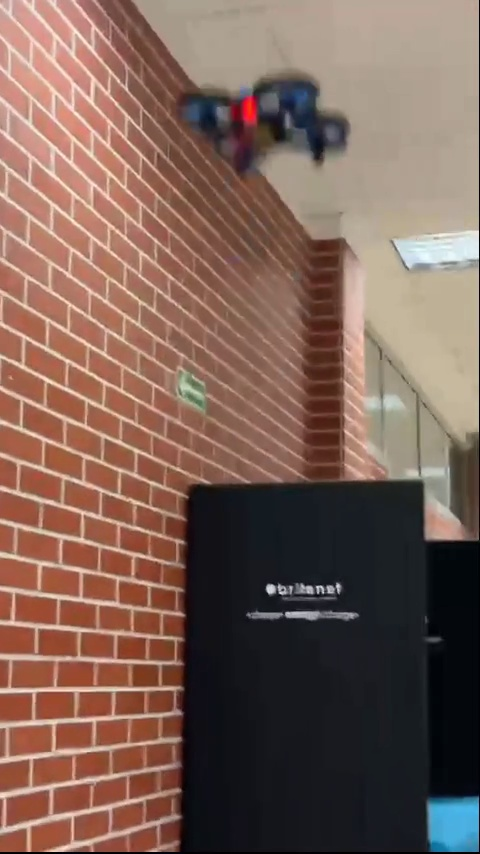drone: (186, 85, 355, 169)
